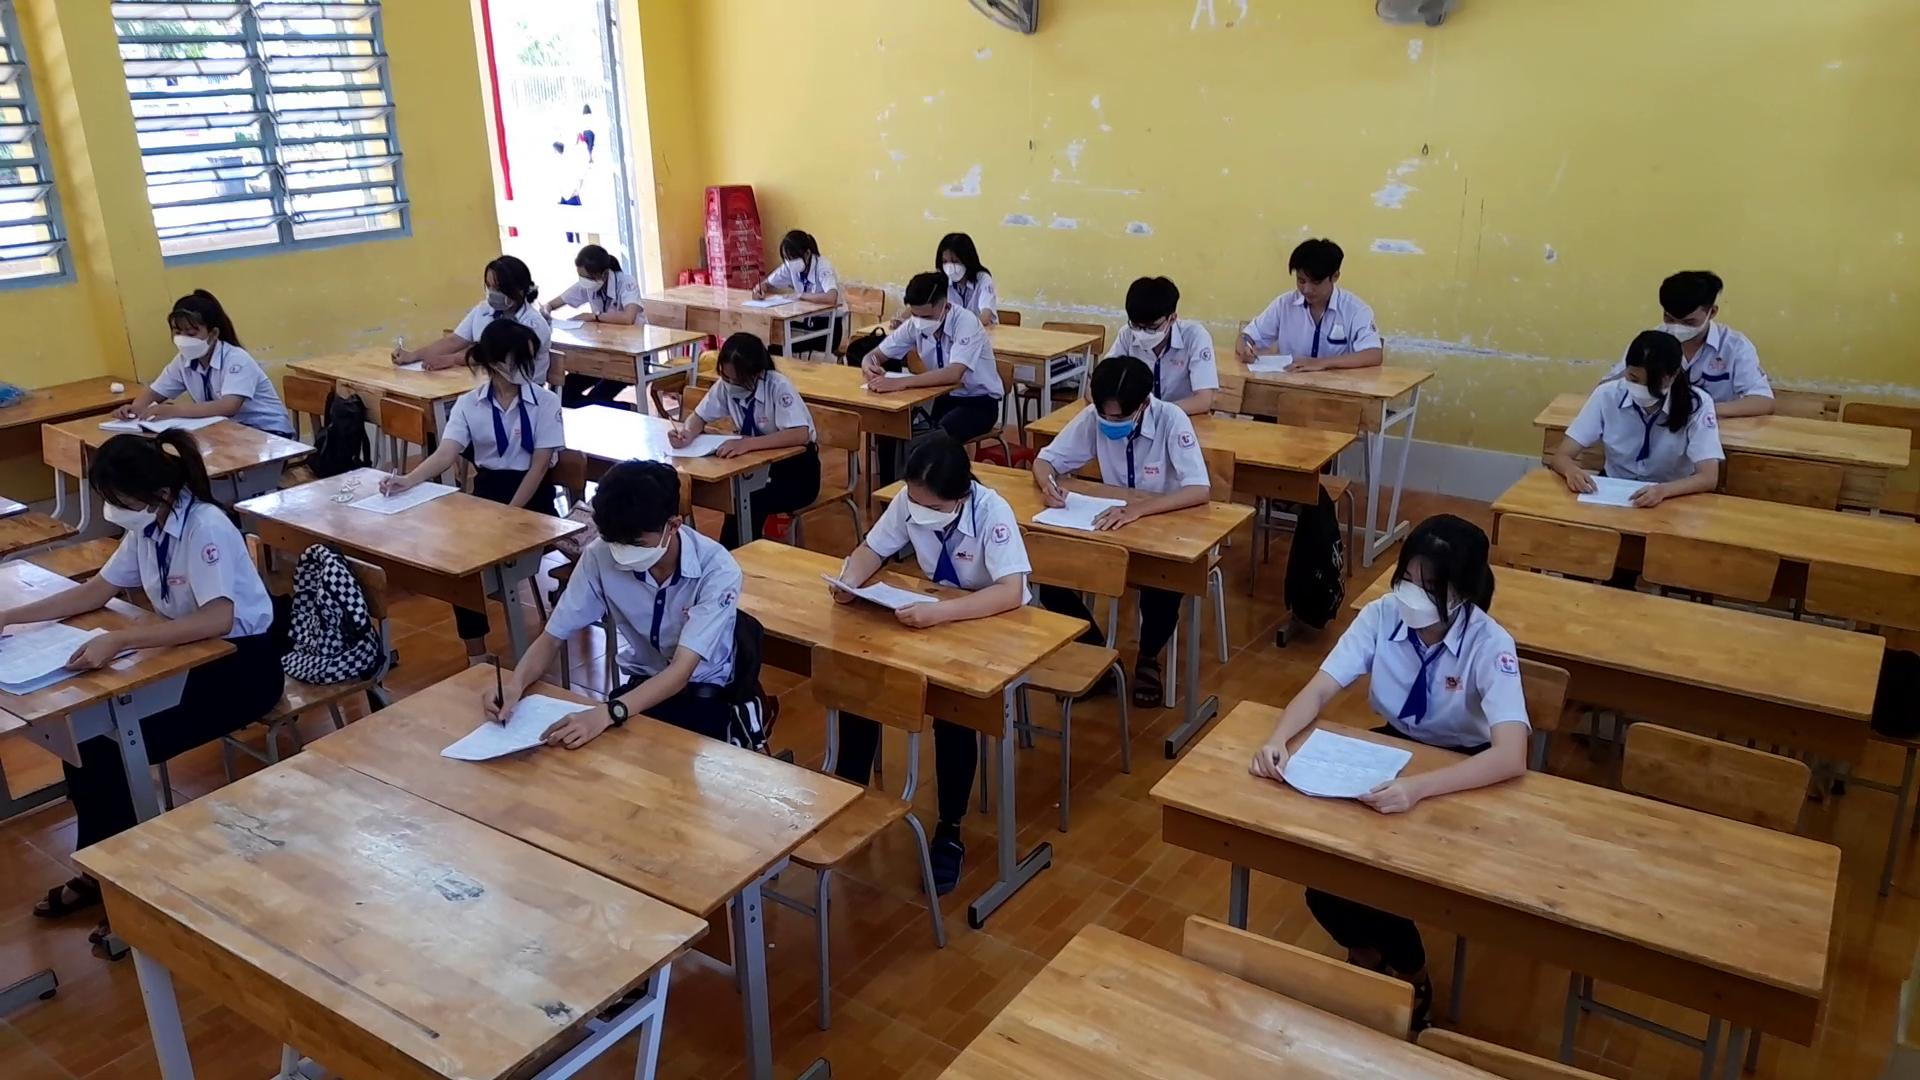Hand Under Table: (498, 401, 564, 509)
Look Around: (456, 298, 553, 392)
Normal: (1240, 506, 1542, 818), (465, 452, 746, 756), (12, 421, 276, 676), (1005, 342, 1229, 549), (814, 426, 1038, 632), (1538, 320, 1731, 506), (1226, 222, 1393, 385), (109, 281, 286, 433), (659, 320, 820, 462), (849, 260, 1001, 398), (738, 215, 845, 323), (549, 225, 654, 334)
